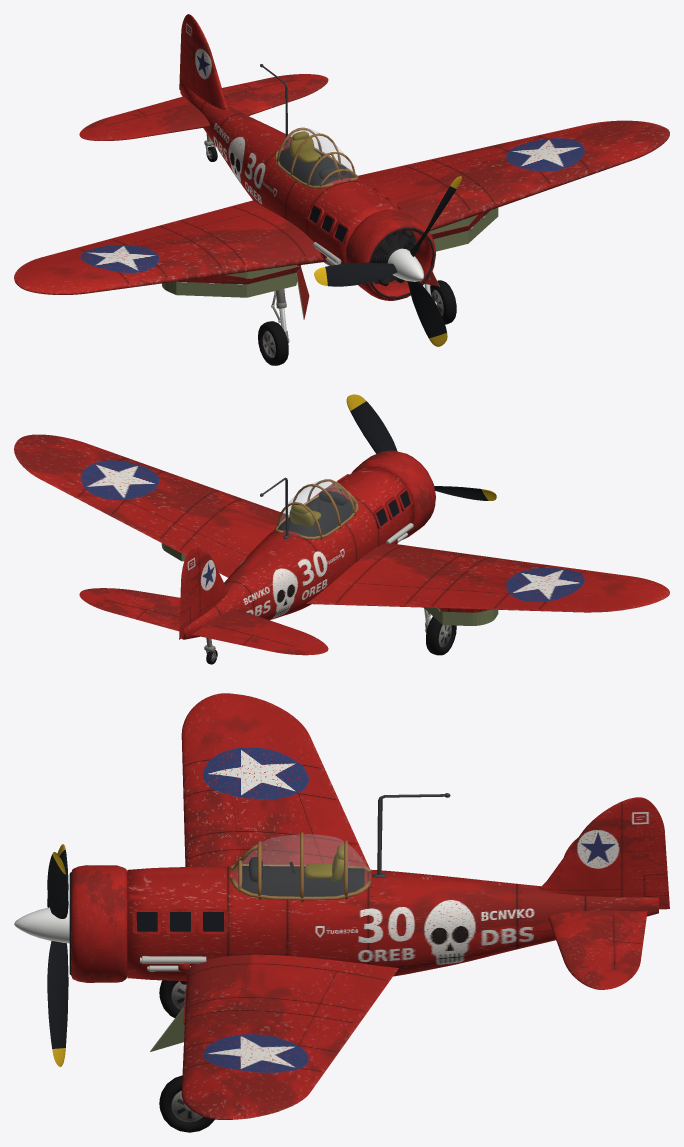
The model's file is red_vintage_fighter_plane.lod1.glb.
The picture shows the model from 3 angles, top to bottom: view 1: azimuth 30°, elevation 25°; view 2: azimuth 150°, elevation 25°; view 3: azimuth 270°, elevation 25°; orthographic projection. The views are drawn at different scales.
Parts seen in each view (by area): view 1: Wings, Fuselage, Tailplane, Propeller, Cowling, TailFin, Canopy_Glass, Cockpit, MainBay_R • fitted cavity cutter, Canopy_Frame, Wheel_Main_R, Engine (+4 smaller); view 2: Wings, Fuselage, Tailplane, TailFin, Canopy_Glass, Cowling, Propeller, Cockpit, Canopy_Frame, MainBay_R • fitted cavity cutter, Wheel_Main_R, Nose_Windows; view 3: Wings, Fuselage, TailFin, Cowling, Tailplane, Canopy_Glass, Propeller, Cockpit, Nose_Windows, Canopy_Frame, Wheel_Main_L, Exhaust_Stacks (+3 smaller).
Part boxes in pixels (left/top/right/bottom): Wings: left=14, top=120, right=669, bottom=294; Fuselage: left=180, top=84, right=399, bottom=265; Tailplane: left=79, top=74, right=328, bottom=140; Propeller: left=314, top=176, right=461, bottom=346; Cowling: left=345, top=209, right=435, bottom=300; TailFin: left=179, top=14, right=229, bottom=110; Canopy_Glass: left=279, top=128, right=354, bottom=185; Cockpit: left=279, top=131, right=354, bottom=185; MainBay_R • fitted cavity cutter: left=162, top=273, right=297, bottom=297; Canopy_Frame: left=275, top=127, right=358, bottom=188; Wheel_Main_R: left=258, top=321, right=288, bottom=365; Engine: left=371, top=230, right=420, bottom=286; Wings: left=14, top=434, right=669, bottom=612; Fuselage: left=181, top=467, right=414, bottom=639; Tailplane: left=79, top=588, right=328, bottom=655; TailFin: left=179, top=547, right=229, bottom=639; Canopy_Glass: left=277, top=480, right=355, bottom=536; Cowling: left=352, top=450, right=435, bottom=539; Propeller: left=346, top=394, right=496, bottom=500; Cockpit: left=278, top=491, right=355, bottom=536; Canopy_Frame: left=275, top=479, right=358, bottom=539; MainBay_R • fitted cavity cutter: left=424, top=607, right=498, bottom=625; Wheel_Main_R: left=426, top=616, right=456, bottom=655; Nose_Windows: left=313, top=474, right=412, bottom=528; Wings: left=181, top=693, right=398, bottom=1119; Fuselage: left=127, top=866, right=658, bottom=980; TailFin: left=537, top=797, right=669, bottom=909; Cowling: left=69, top=865, right=127, bottom=982; Tailplane: left=548, top=838, right=647, bottom=989; Canopy_Glass: left=231, top=834, right=370, bottom=896; Propeller: left=14, top=844, right=69, bottom=1066; Cockpit: left=242, top=844, right=364, bottom=896; Nose_Windows: left=132, top=909, right=228, bottom=934; Canopy_Frame: left=229, top=832, right=372, bottom=902; Wheel_Main_L: left=159, top=1075, right=214, bottom=1132; Exhaust_Stacks: left=140, top=956, right=206, bottom=971.
Size of the model in its own units: 0.5475 by 0.1693 by 0.3565.
20 materials, 6 textured.
